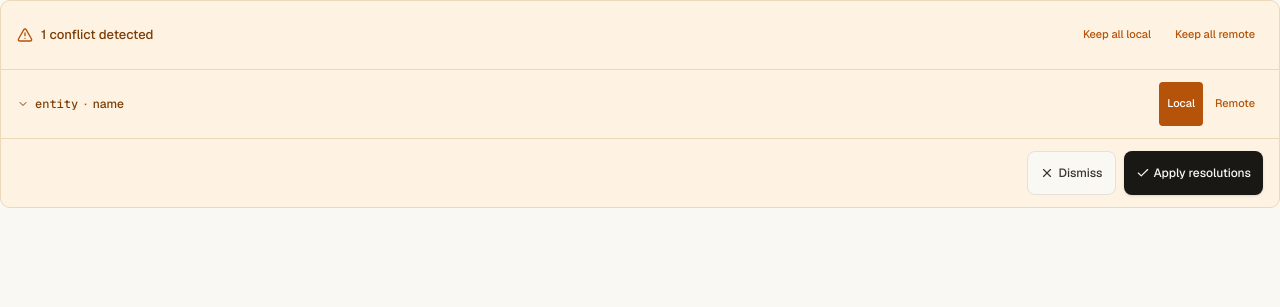
Test: ConflictUI › formats empty values as (empty)
The image size is (1280, 307).
Click the text "entity": click(57, 104) [35,96,78,112]
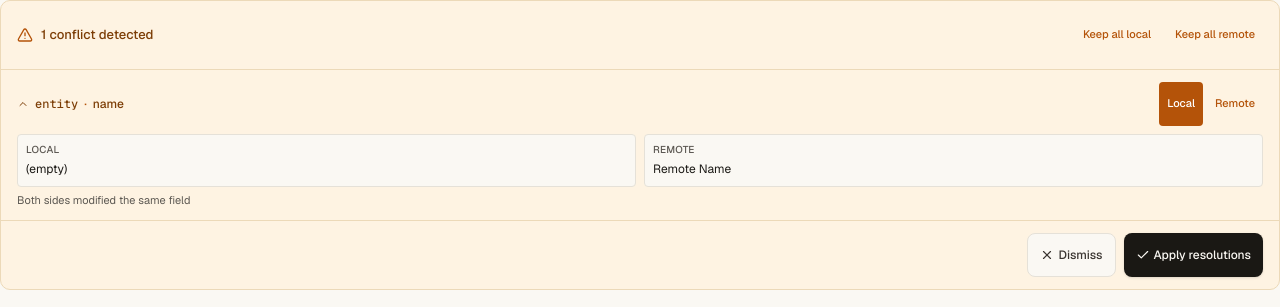
Expected: the text "(empty)" is shown, [26,161,67,177]
